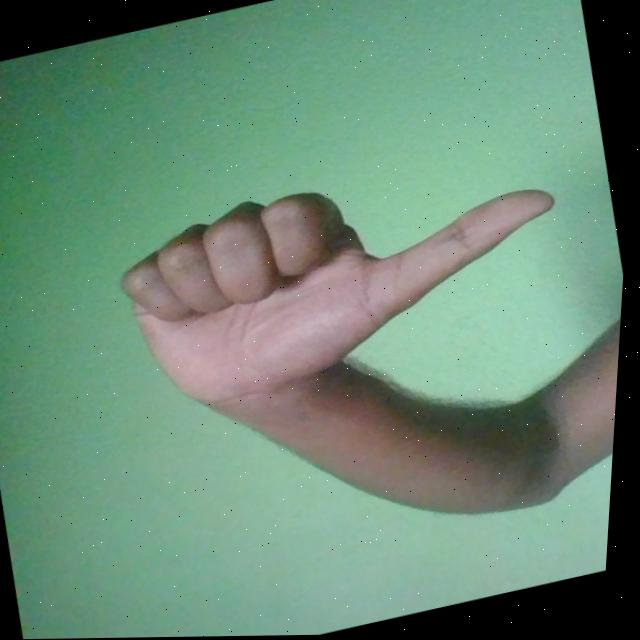Dislike: (105, 135, 585, 424)
